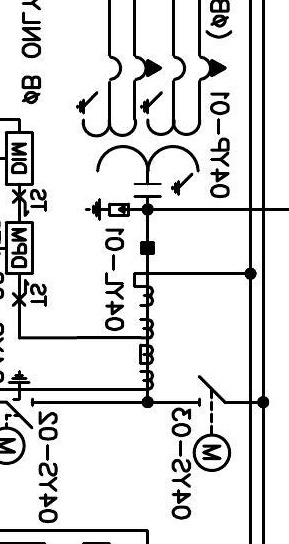115_1way_ds_w_motor: (192, 374, 232, 473)
115_cvt_1p: (75, 53, 227, 199)
115_la: (84, 197, 130, 222)
DIM: (4, 131, 34, 186)
DPM: (5, 221, 34, 275)
